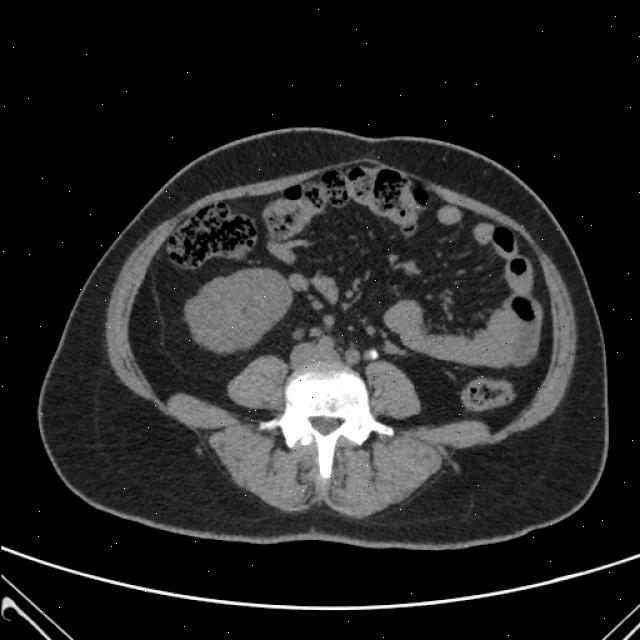kidneystone: (364, 348, 379, 361)
